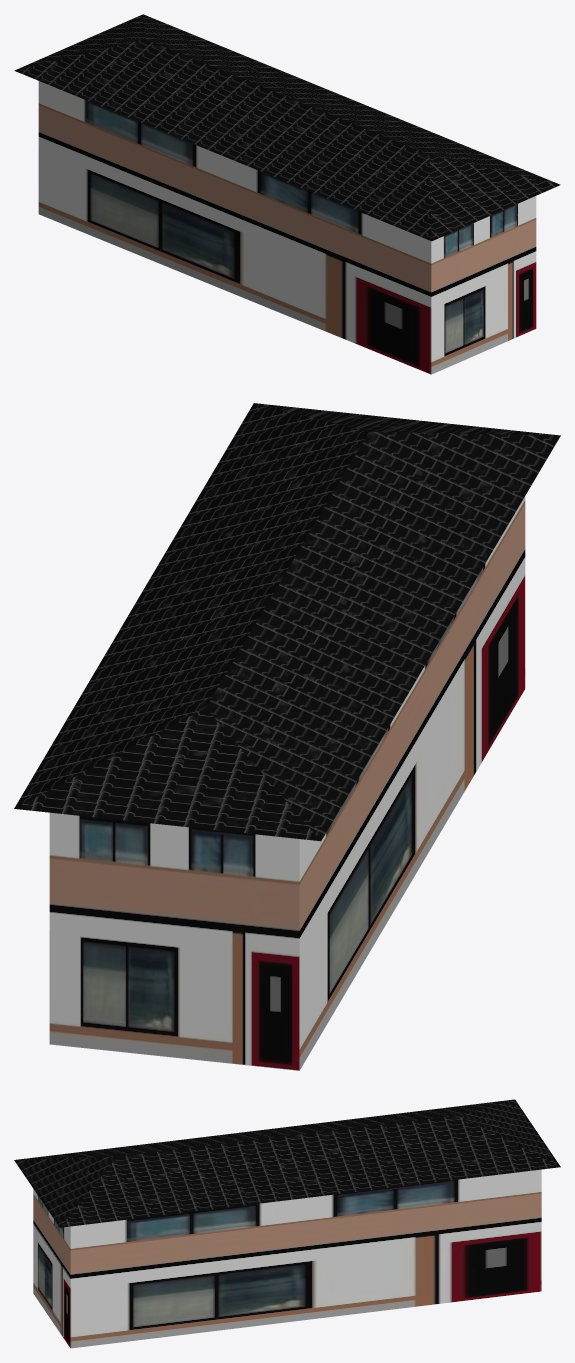
The picture shows the model from 3 angles, top to bottom: view 1: azimuth 30°, elevation 25°; view 2: azimuth 150°, elevation 25°; view 3: azimuth 270°, elevation 25°; orthographic projection. The views are drawn at different scales.
Visible parts, largest first — view 1: CityEngineMaterial_5_m, CityEngineMaterial_14_m; view 2: CityEngineMaterial_14_m, CityEngineMaterial_5_m; view 3: CityEngineMaterial_5_m, CityEngineMaterial_14_m.
Boxes of the visible parts, x1,y1,x2,y2 form: CityEngineMaterial_5_m: (38,81,536,374); CityEngineMaterial_14_m: (14,14,560,241); CityEngineMaterial_14_m: (14,403,560,841); CityEngineMaterial_5_m: (49,496,525,1070); CityEngineMaterial_5_m: (33,1169,541,1348); CityEngineMaterial_14_m: (14,1099,560,1227).
Bounding box in the file's own units: 18.34 × 10.42 × 33.03.
